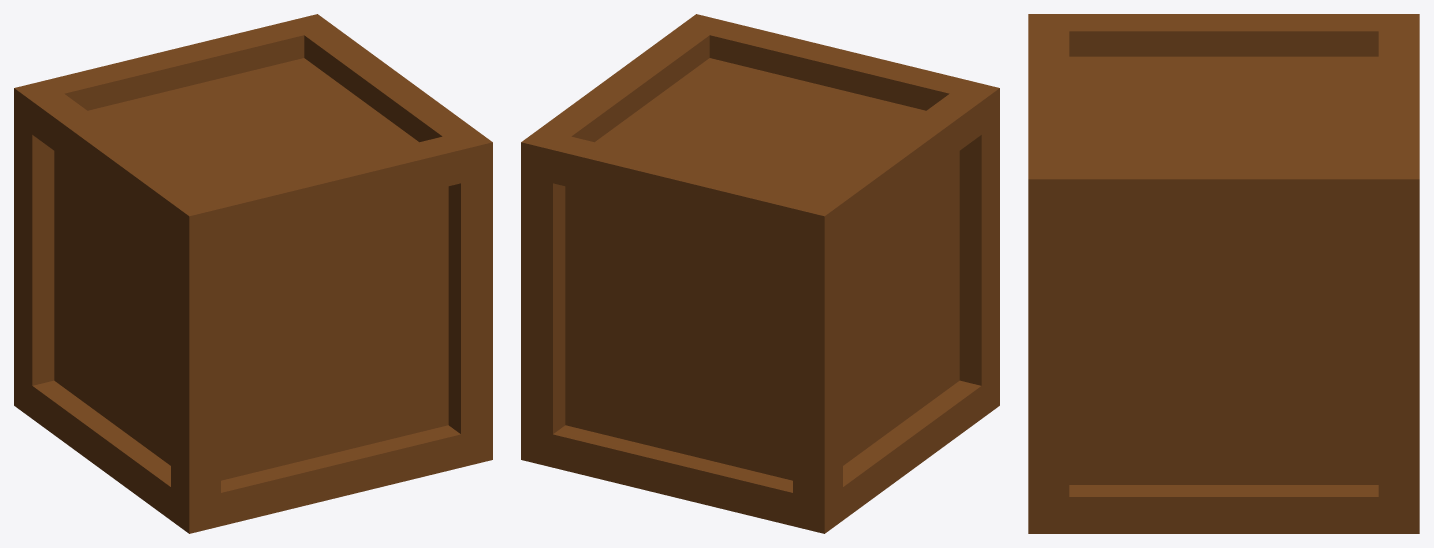
File: cassa.fbx
The picture shows the model from 3 angles, left to right: view 1: azimuth 30°, elevation 25°; view 2: azimuth 150°, elevation 25°; view 3: azimuth 270°, elevation 25°; orthographic projection. The views are drawn at different scales.
Parts seen in each view (by area): view 1: cassa; view 2: cassa; view 3: cassa.
Boxes of the visible parts, x1,y1,x2,y2 form: cassa: (14, 14, 492, 533); cassa: (521, 14, 999, 533); cassa: (1028, 14, 1419, 533).
Bounding box in the file's own units: 1 × 1 × 1.
